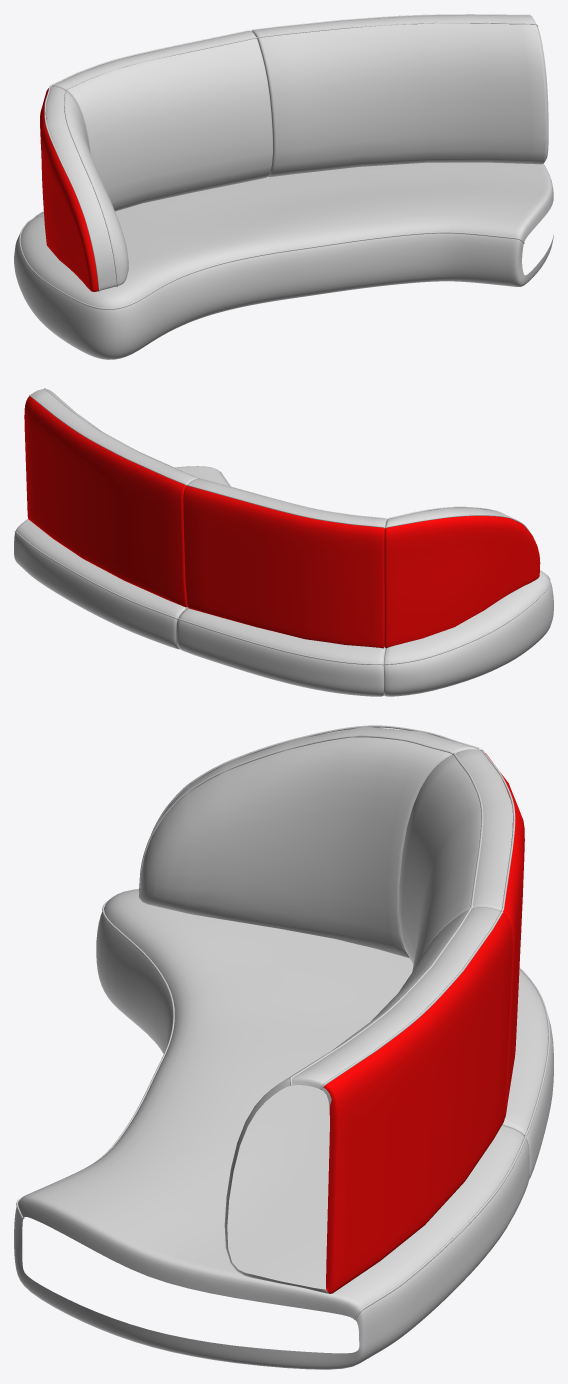
The model's file is levante_m_male.gltf.
3 views of the same model, one above another, from view 1: azimuth 30°, elevation 25°; view 2: azimuth 150°, elevation 25°; view 3: azimuth 270°, elevation 25° (orthographic). The views are drawn at different scales.
Visible parts, largest first — view 1: levante_m_male; view 2: levante_m_male; view 3: levante_m_male.
Part boxes in pixels (left/top/right/bottom): levante_m_male: left=14, top=14, right=553, bottom=359; levante_m_male: left=14, top=388, right=553, bottom=696; levante_m_male: left=14, top=725, right=553, bottom=1369.
Bounding box in the file's own units: 2.02 × 0.6903 × 1.15.
